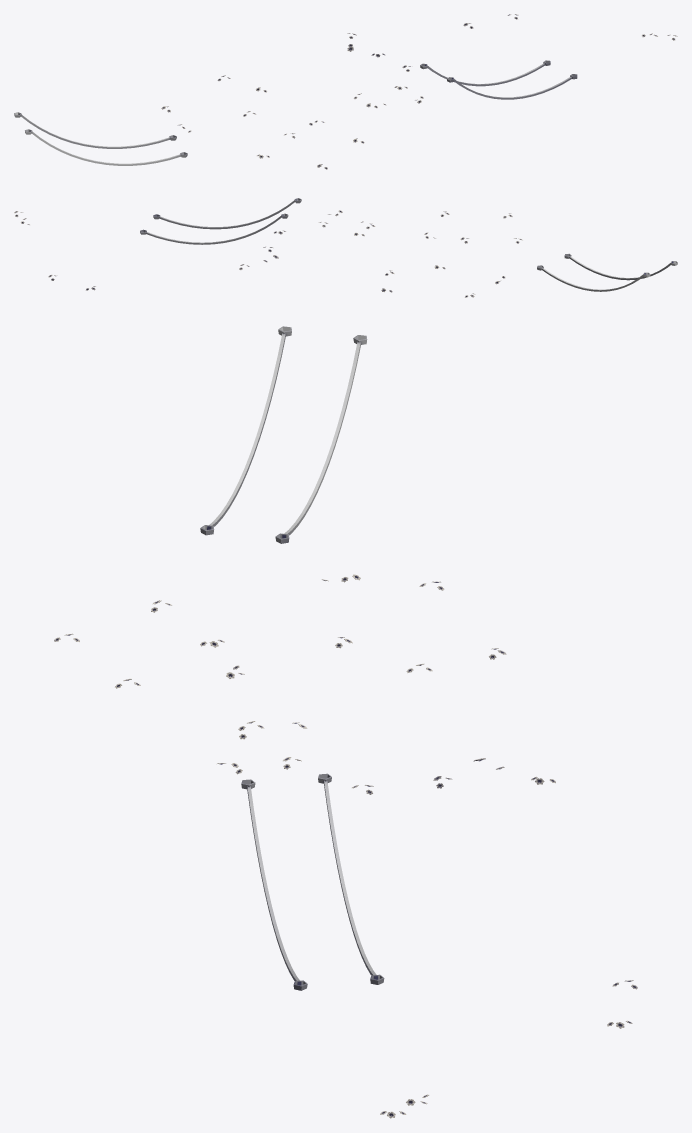
Rendered from Flower_01.FBX.
The picture shows the model from 3 angles, top to bottom: view 1: azimuth 30°, elevation 25°; view 2: azimuth 150°, elevation 25°; view 3: azimuth 270°, elevation 25°; orthographic projection. The views are drawn at different scales.
Visible parts, largest first — view 1: Flower_01; view 2: Flower_01; view 3: Flower_01.
Boxes of the visible parts, left/top/right/bottom form: Flower_01: left=14, top=14, right=677, bottom=169; Flower_01: left=14, top=198, right=677, bottom=297; Flower_01: left=54, top=326, right=637, bottom=1118.
Size of the model in its own units: 45.83 by 5.94 by 18.21.
